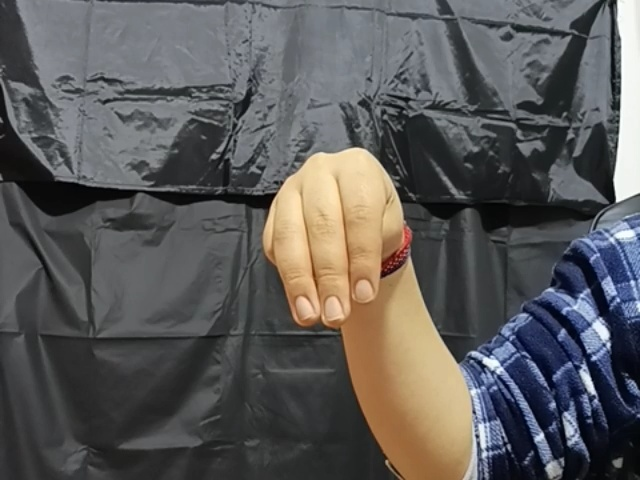M: (265, 139, 439, 341)
